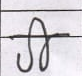i_matra: (32, 17, 52, 71)
